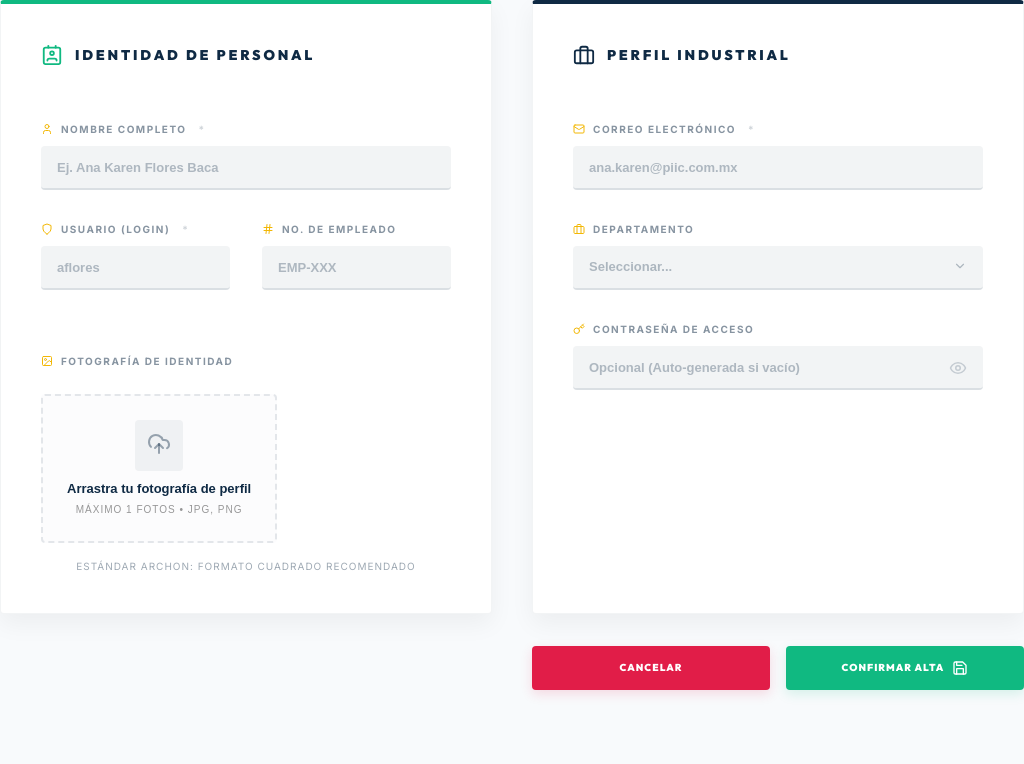
Scenario: UserRegistrationForm (Sentinel Identity) › handles validation errors with partial data
Type "Test User" into the field with placeholder "Ej. Ana Karen Flores Baca" at (246, 168), box [41, 146, 451, 190]
(page scrolled)
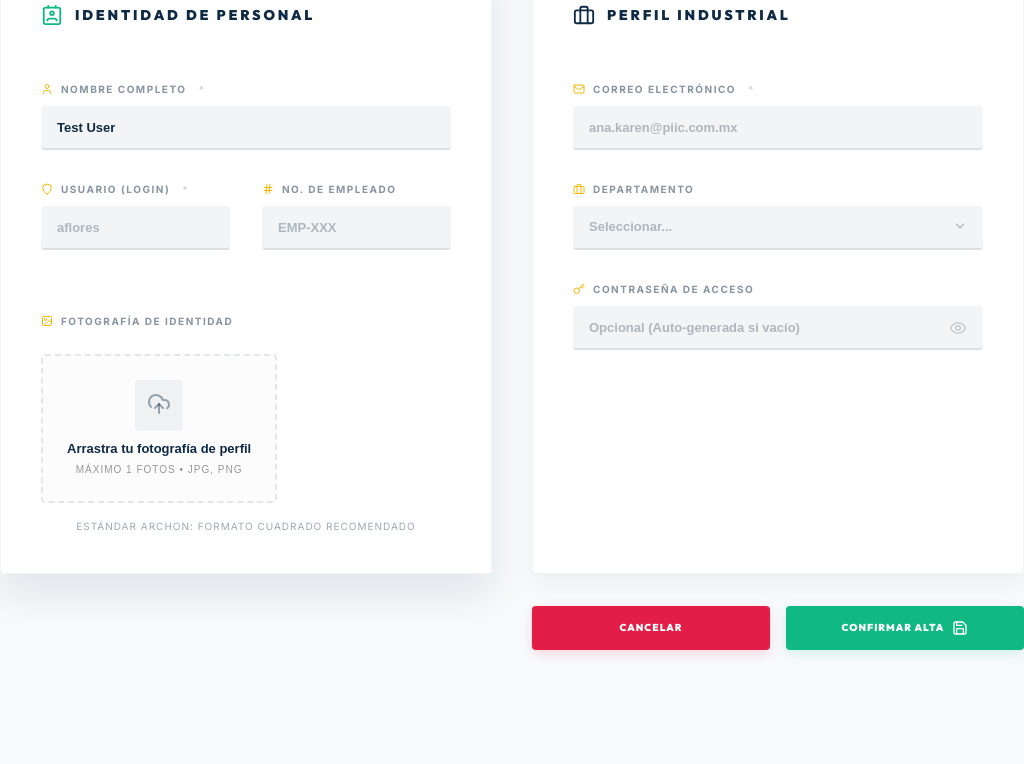
Submit the form with test id "registration-form"
(page scrolled)
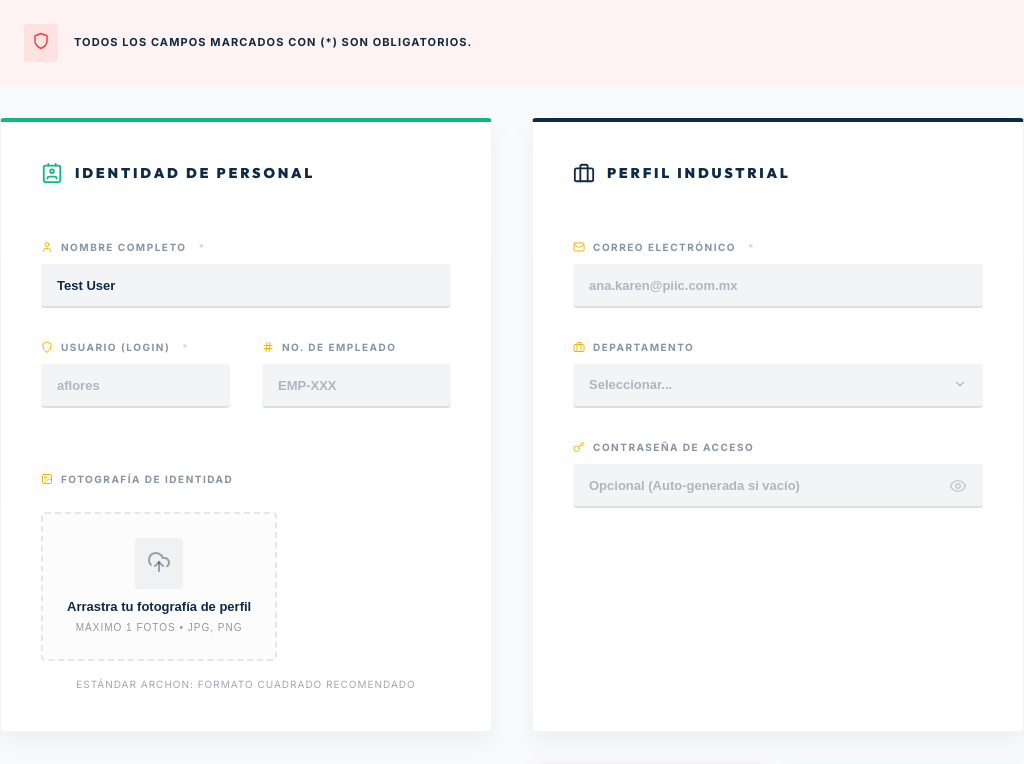
Now the element with test id "error-message" is shown, box [0, 0, 1023, 86]
